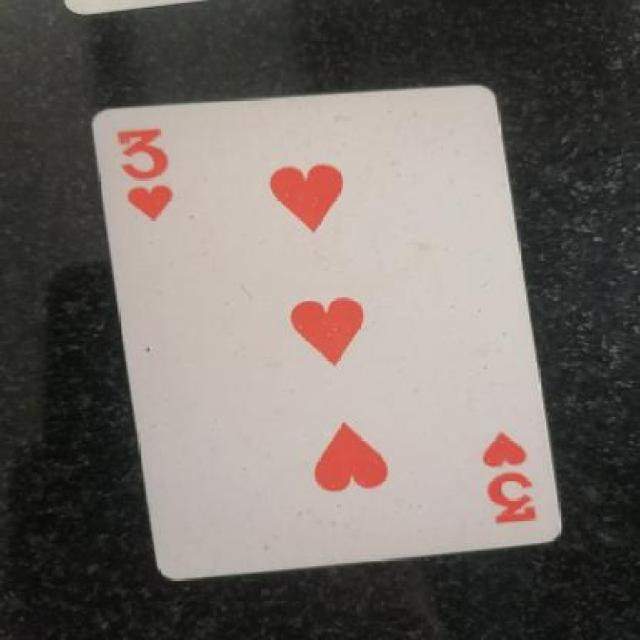3H: (453, 403, 576, 551), (114, 123, 206, 243)
